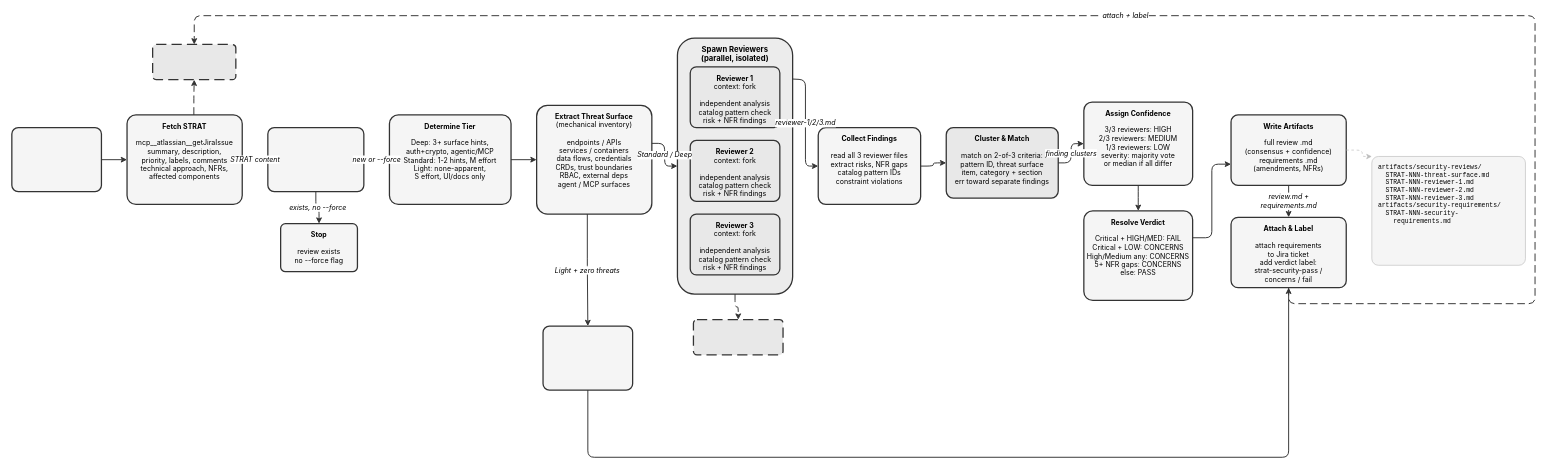
The diagram is 1551 pixels wide and 474 high, and some of its shapes have lost their labels. Each missing label, with the centre of its shape:
/security-reviewer (invoked 3x, isolated): the point at 737,337
/strat-security-review RHAISTRAT-NNN --force (overwrite): the point at 56,159
Idempotency Check review already exists? stop if no --force: the point at 315,159
Jira (Atlassian MCP): the point at 194,62
Light PASS (short-circuit) compact verdict no reviewers spawned: the point at 587,357
